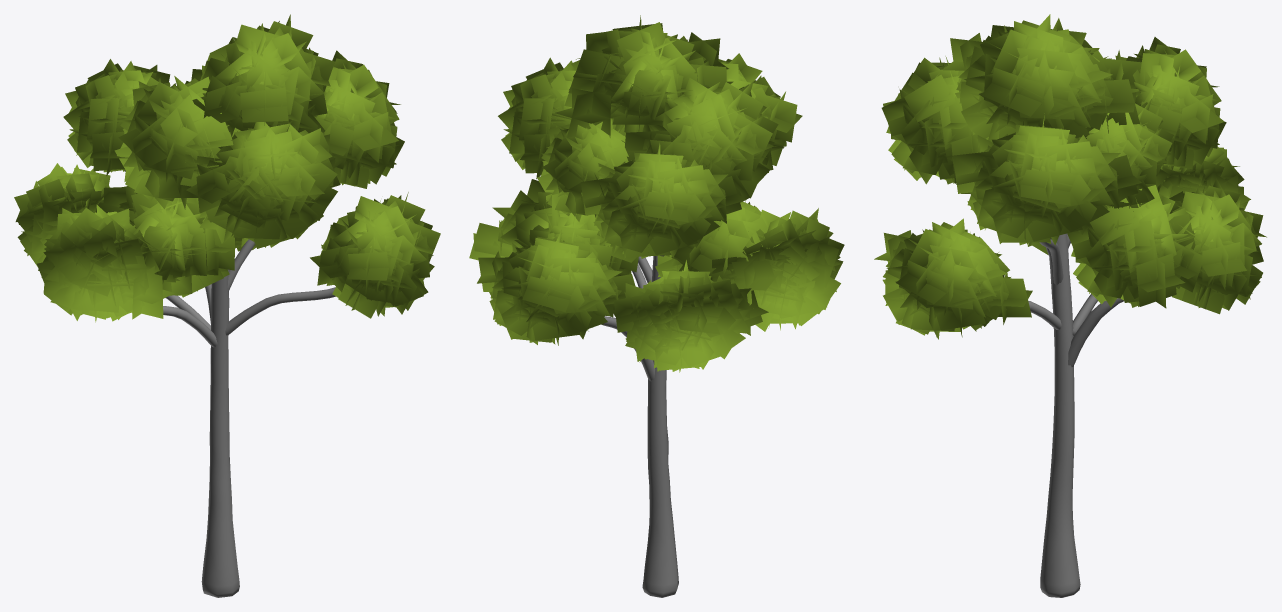
Rendered from SM_tree_birch_01.fbx.
3 views of the same model, side by side, from view 1: azimuth 30°, elevation 25°; view 2: azimuth 150°, elevation 25°; view 3: azimuth 270°, elevation 25° (orthographic). The views are drawn at different scales.
Visible parts, largest first — view 1: Object3427582; view 2: Object3427582; view 3: Object3427582.
Boxes of the visible parts, left/top/right/bottom form: Object3427582: left=14, top=14, right=440, bottom=597; Object3427582: left=469, top=15, right=844, bottom=597; Object3427582: left=874, top=14, right=1266, bottom=597.
Size of the model in its own units: 164 by 262 by 160.
